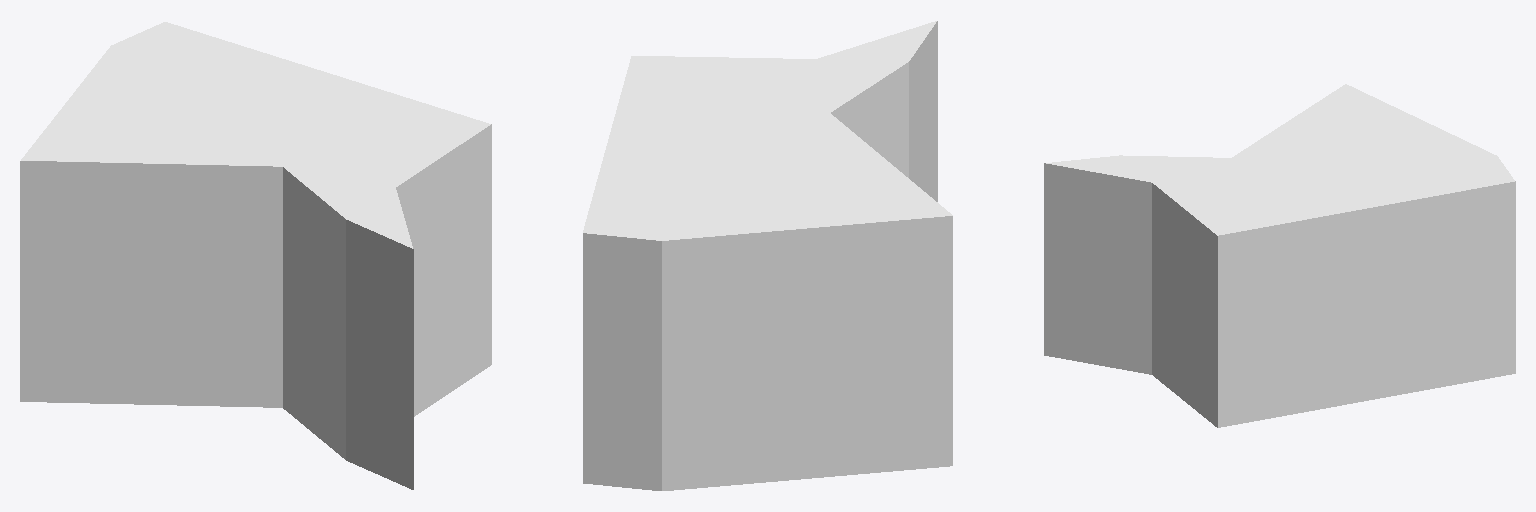
The robot description file, URDF, robot "6":
<?xml version="1.0" ?>
<robot name="6">
  <link concave="yes" name="baseLink">
    <contact>
    	<friction_anchor/>
    	   <lateral_friction value="1.0"/>
    </contact>
    <inertial>
      <origin rpy="0 0 0" xyz="0 0 0"/>
       <!-- mass controls penetration -->
       <mass value=".1"/>
       <inertia ixx="1e-4" ixy="0" ixz="0" iyy="1e-4" iyz="0" izz="1e-4"/>
    </inertial>
    <visual>
      <origin rpy="0 0 0" xyz="0 0 0"/>
      <geometry>
        <mesh filename="package://object_datasets/Tandem2D/meshes/6.obj"/>
      </geometry>
       <material name="white">
        <color rgba="1 1 1 1"/>
      </material>
    </visual>
    <collision>
      <origin rpy="0 0 0" xyz="0 0 0"/>
      <geometry>
        <mesh filename="package://object_datasets/Tandem2D/meshes/6.obj"/>
      </geometry>
    </collision>
  </link>
</robot>

--- Facts derived from the render (not from the file) ---
3 views of the same robot in one strip: view 1: azimuth 30°, elevation 25°; view 2: azimuth 150°, elevation 25°; view 3: azimuth 270°, elevation 25° (orthographic).
Robot: 6 — 1 links, 0 joints (none); root link baseLink; default pose: all joints at 0.
Visible links, largest first — view 1: baseLink; view 2: baseLink; view 3: baseLink.
Boxes of the visible links, left/top/right/bottom form: baseLink: left=20, top=22, right=491, bottom=489; baseLink: left=583, top=21, right=952, bottom=490; baseLink: left=1044, top=84, right=1515, bottom=427.
Bounding box of the posed robot: 0.1271 × 0.1664 × 0.075 m (x, y, z).
1 mesh visuals loaded from 1 distinct referenced files (1 OBJ).
